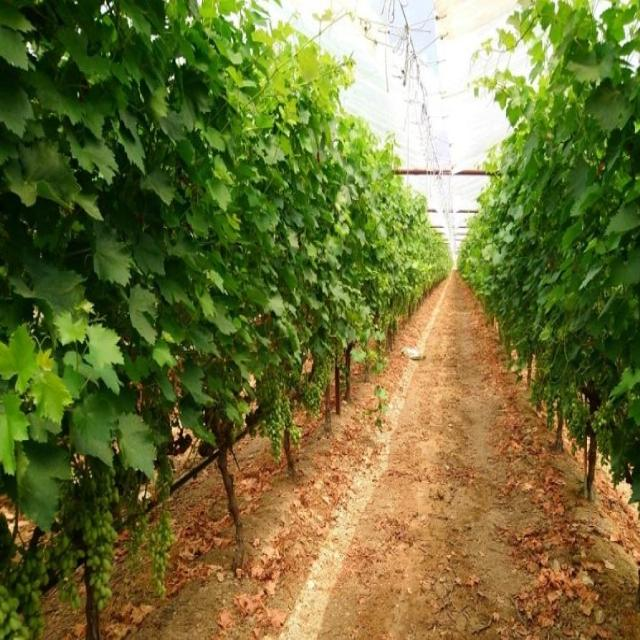row: (118, 265, 638, 640)
